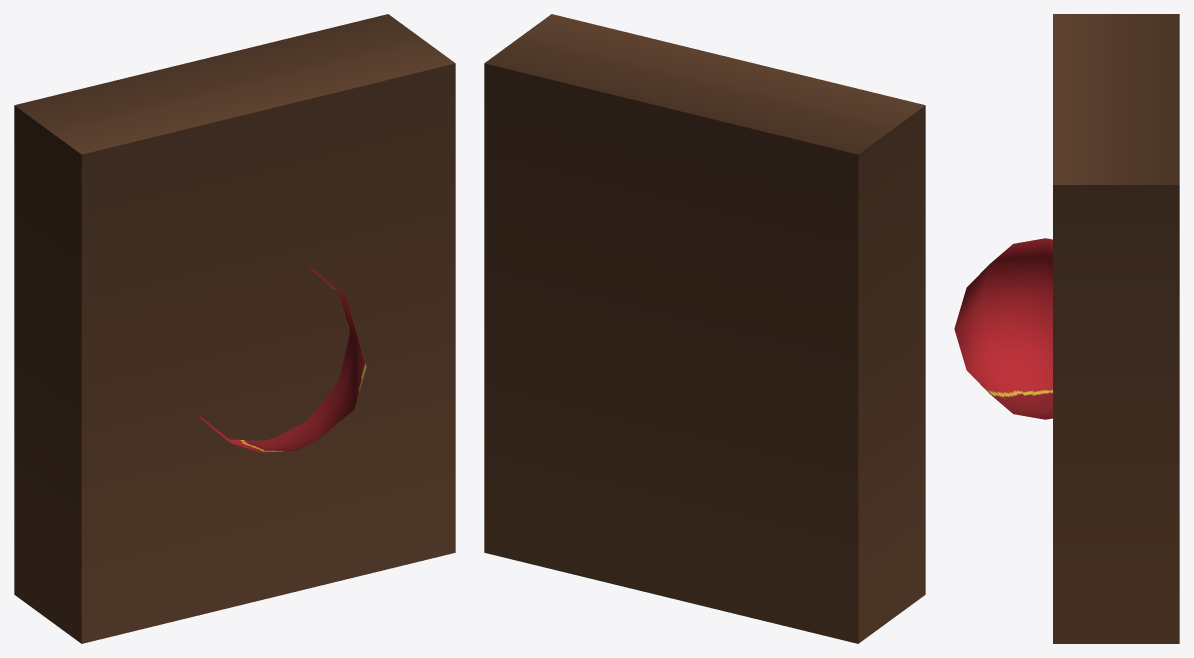
The model's file is npc_liber_cutis.glb.
The picture shows the model from 3 angles, left to right: view 1: azimuth 30°, elevation 25°; view 2: azimuth 150°, elevation 25°; view 3: azimuth 270°, elevation 25°; orthographic projection. The views are drawn at different scales.
Visible parts, largest first — view 1: npc_liber_cutis; view 2: npc_liber_cutis; view 3: npc_liber_cutis.
Part boxes in pixels (bbox=[...]): npc_liber_cutis: bbox=[14, 14, 455, 643]; npc_liber_cutis: bbox=[484, 14, 925, 643]; npc_liber_cutis: bbox=[954, 14, 1179, 643].
Bounding box in the file's own units: 0.8 × 1 × 0.445.
Materials: 1 (1 with a texture image).
